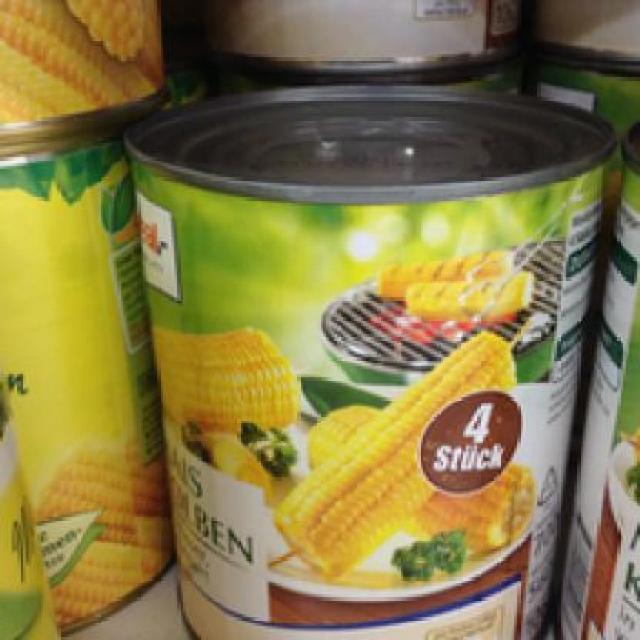Corn: (117, 79, 617, 635)
